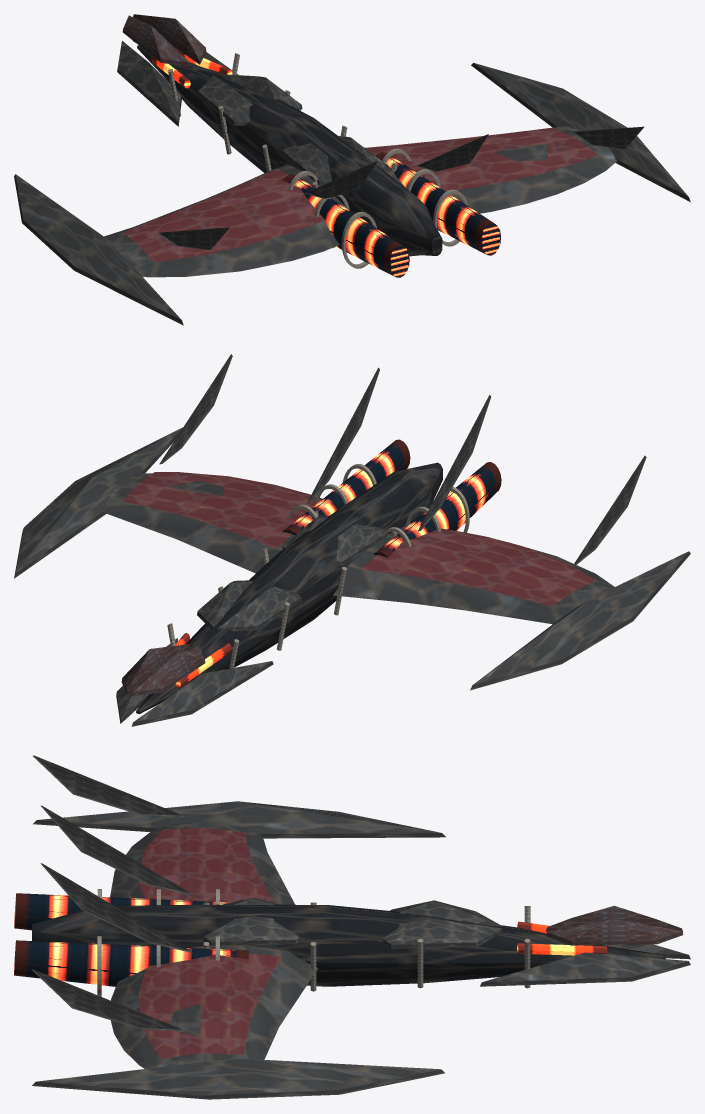
Rendered from dynasty_courier_recreated_lod1.glb.
The picture shows the model from 3 angles, top to bottom: view 1: azimuth 30°, elevation 25°; view 2: azimuth 150°, elevation 25°; view 3: azimuth 270°, elevation 25°; orthographic projection. The views are drawn at different scales.
Parts seen in each view (by area): view 1: dynasty_courier_lod_source; view 2: dynasty_courier_lod_source; view 3: dynasty_courier_lod_source.
Part boxes in pixels (bbox=[...]): dynasty_courier_lod_source: bbox=[14, 14, 690, 325]; dynasty_courier_lod_source: bbox=[14, 354, 690, 726]; dynasty_courier_lod_source: bbox=[14, 755, 690, 1099].
Bounding box in the file's own units: 1.42 × 0.3416 × 1.41.
Materials: 1 (1 with a texture image).
